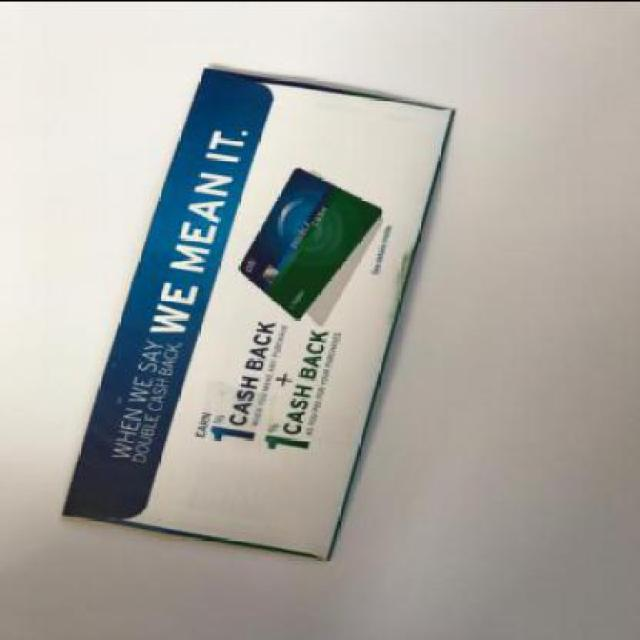PAPER: (60, 61, 458, 559)
